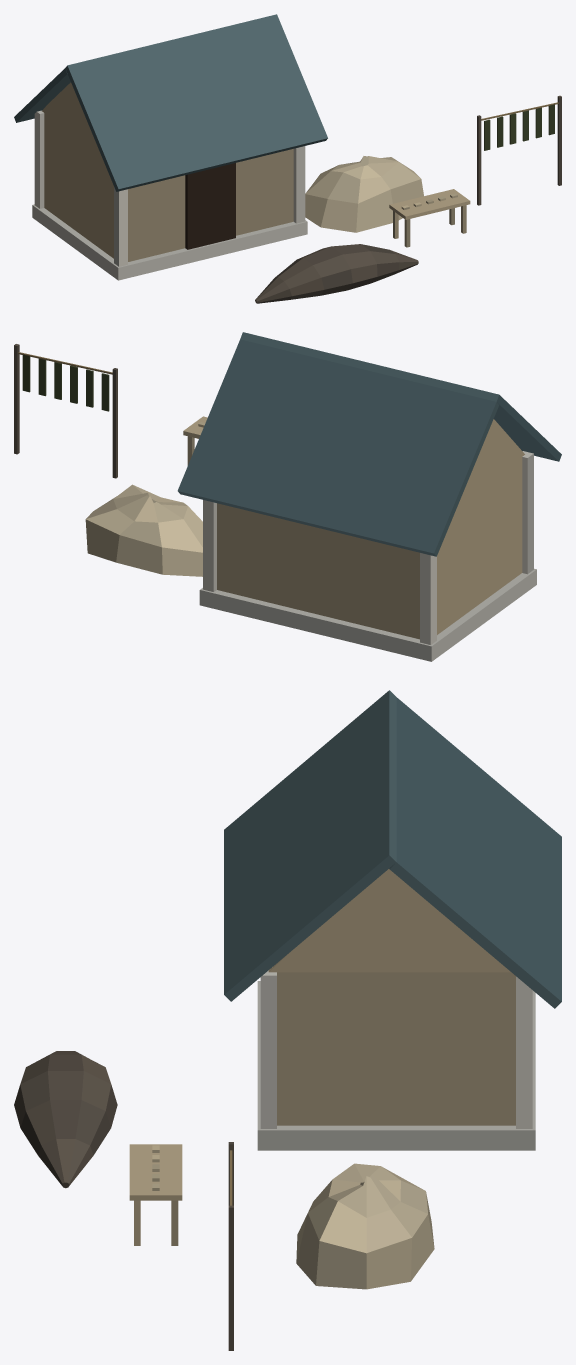
Rendered from walk_veiled_pearls.glb.
3 renders of one model, top to bottom at view 1: azimuth 30°, elevation 25°; view 2: azimuth 150°, elevation 25°; view 3: azimuth 270°, elevation 25°, orthographic. The views are drawn at different scales.
Parts seen in each view (by area): view 1: walk_veiled_pearls, walk_veiled_pearls_roof; view 2: walk_veiled_pearls, walk_veiled_pearls_roof; view 3: walk_veiled_pearls, walk_veiled_pearls_roof.
Boxes of the visible parts, x1,y1,x2,y2 form: walk_veiled_pearls: [32, 82, 561, 303]; walk_veiled_pearls_roof: [14, 14, 327, 191]; walk_veiled_pearls: [14, 344, 536, 661]; walk_veiled_pearls_roof: [177, 332, 561, 556]; walk_veiled_pearls: [14, 869, 535, 1350]; walk_veiled_pearls_roof: [224, 690, 561, 1008].
Size of what is drawn, in the model's own units: 11.04 by 4.98 by 7.29.
1 material, 1 textured.
